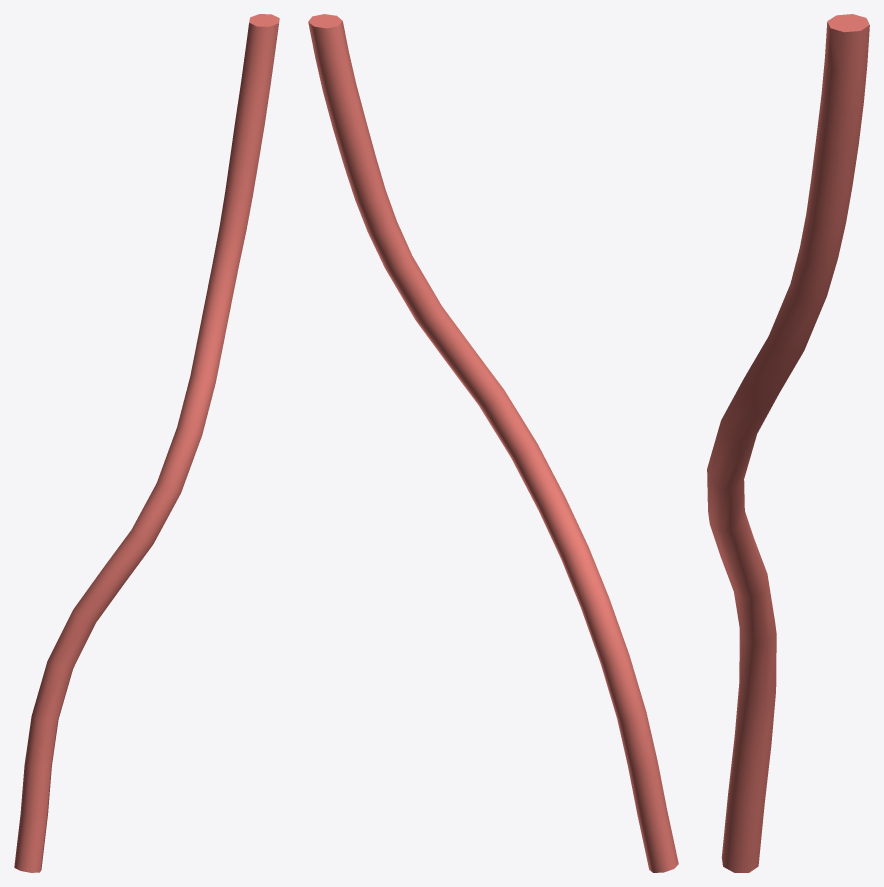
The model's file is artere-brachiale.glb.
The picture shows the model from 3 angles, left to right: view 1: azimuth 30°, elevation 25°; view 2: azimuth 150°, elevation 25°; view 3: azimuth 270°, elevation 25°; orthographic projection. The views are drawn at different scales.
Parts seen in each view (by area): view 1: artere-brachiale; view 2: artere-brachiale; view 3: artere-brachiale.
Boxes of the visible parts, x1=… form: artere-brachiale: x1=14, y1=14, x2=279, y2=872; artere-brachiale: x1=308, y1=14, x2=678, y2=872; artere-brachiale: x1=707, y1=14, x2=869, y2=872.
Bounding box in the file's own units: 0.0491 × 0.1173 × 0.0169.
